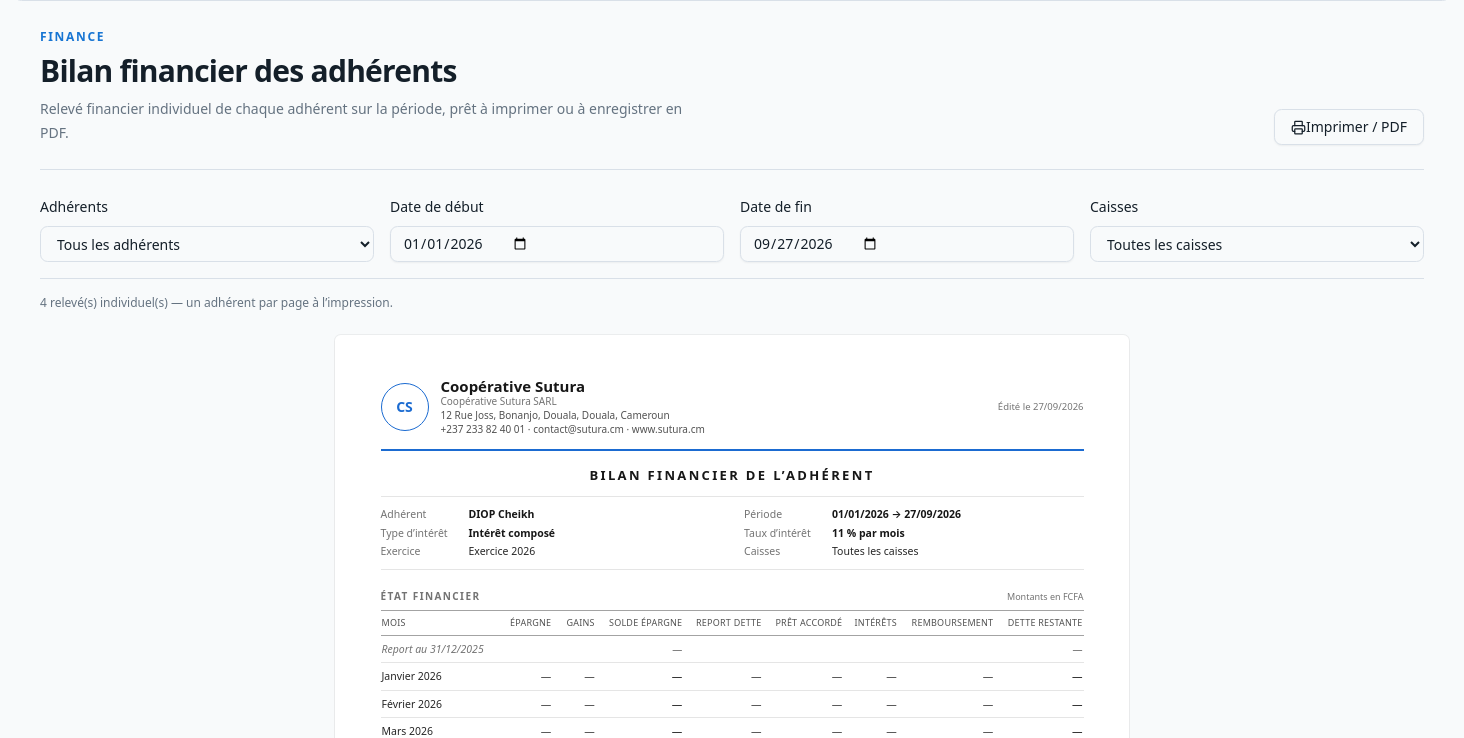
Bilan financier de l’adhérent — relevés › TEST 20 — Intérêts et Pénalités dans deux colonnes distinctes, détail des pénalités (date, base, type, valeur, montant)
The image size is (1464, 738).
Expected: the date field labelled "Date de début" holds "2026-01-01", x1=390 y1=226 x2=724 y2=262
Expected: the date field labelled "Date de fin" holds "2026-09-27", x1=740 y1=226 x2=1074 y2=262
Step 1. Select "Adhérents sélectionnés" in the dropdown labelled "Adhérents" → (207,244), box x1=40 y1=226 x2=374 y2=262
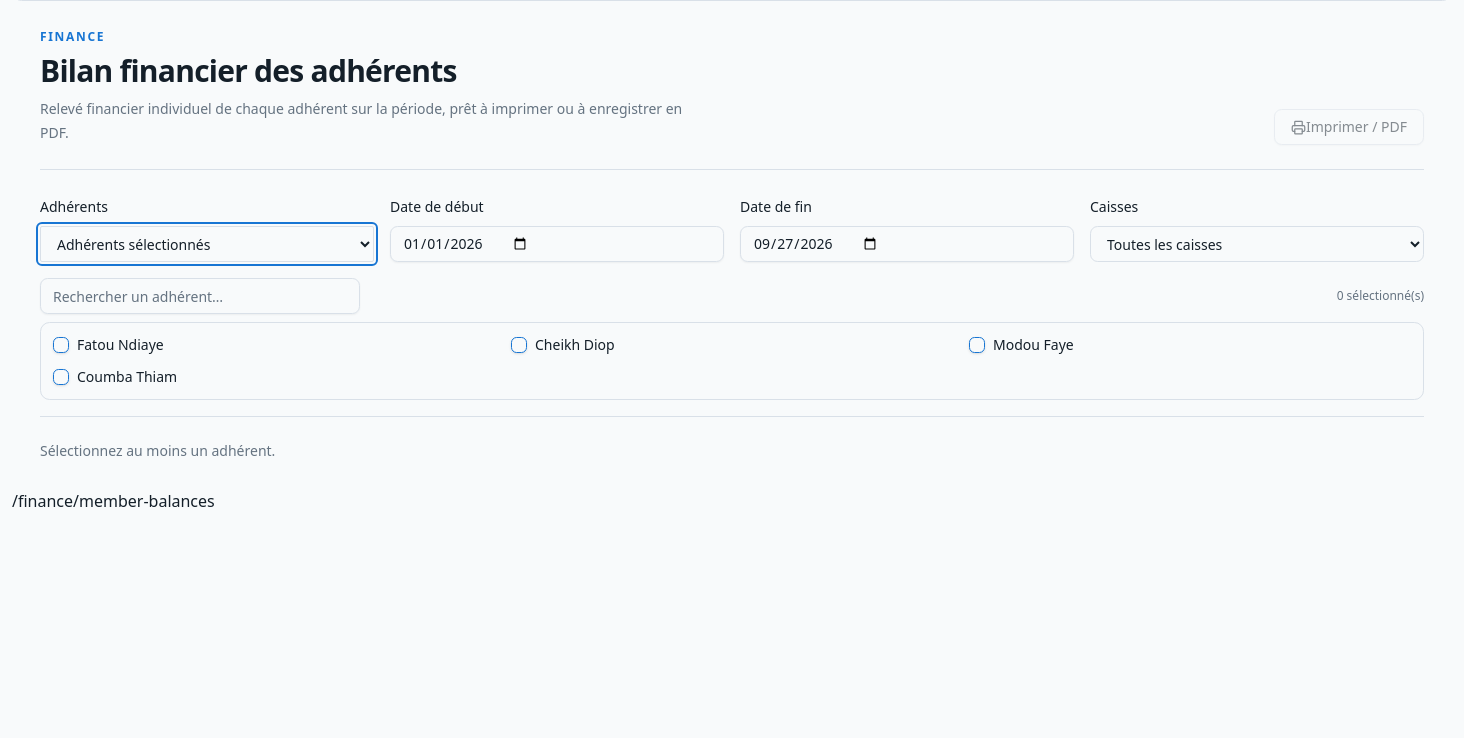
Step 2. Click the checkbox named "Modou Faye" → (977,345), box x1=969 y1=337 x2=985 y2=353
(page scrolled)
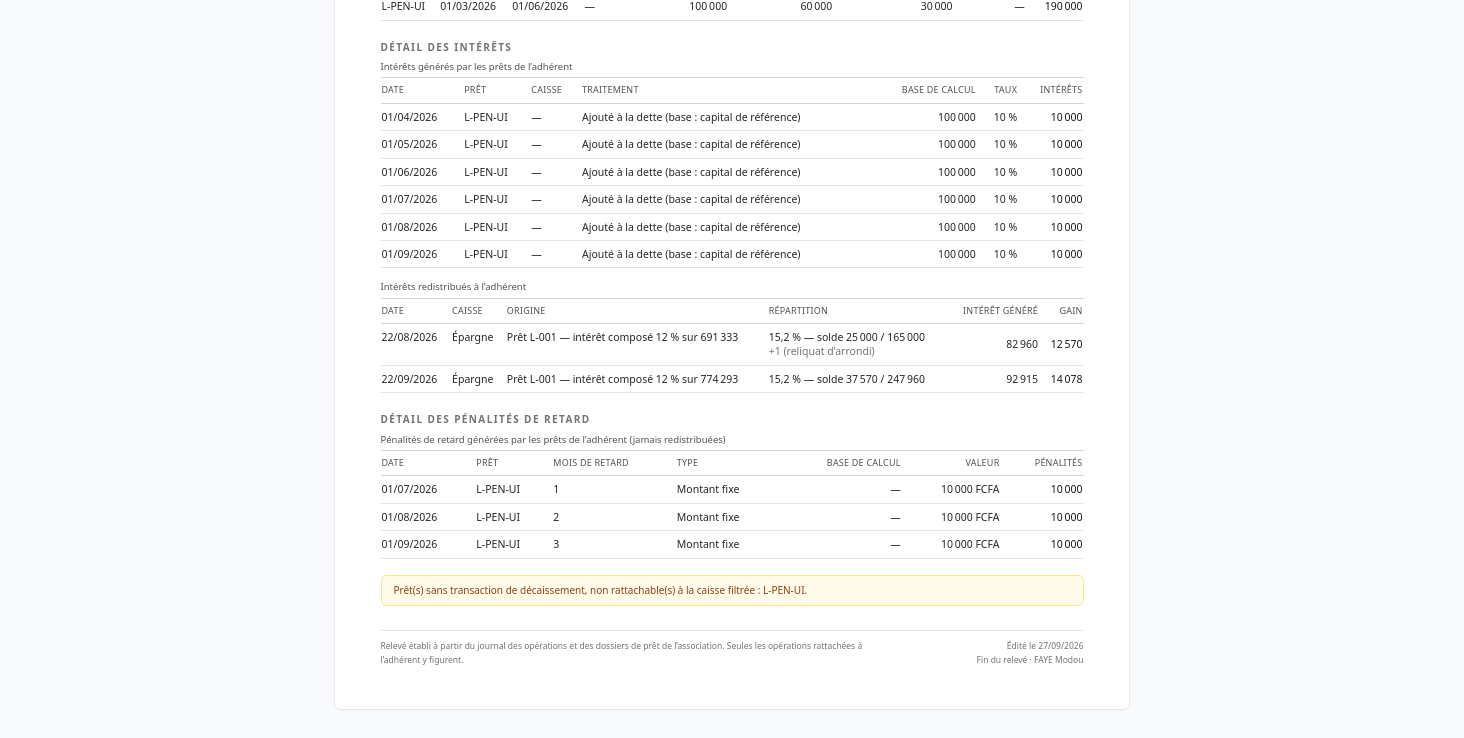
Now the table with test id "mb-loan-penalties" shows "Montant fixe", box x1=677 y1=482 x2=740 y2=496
